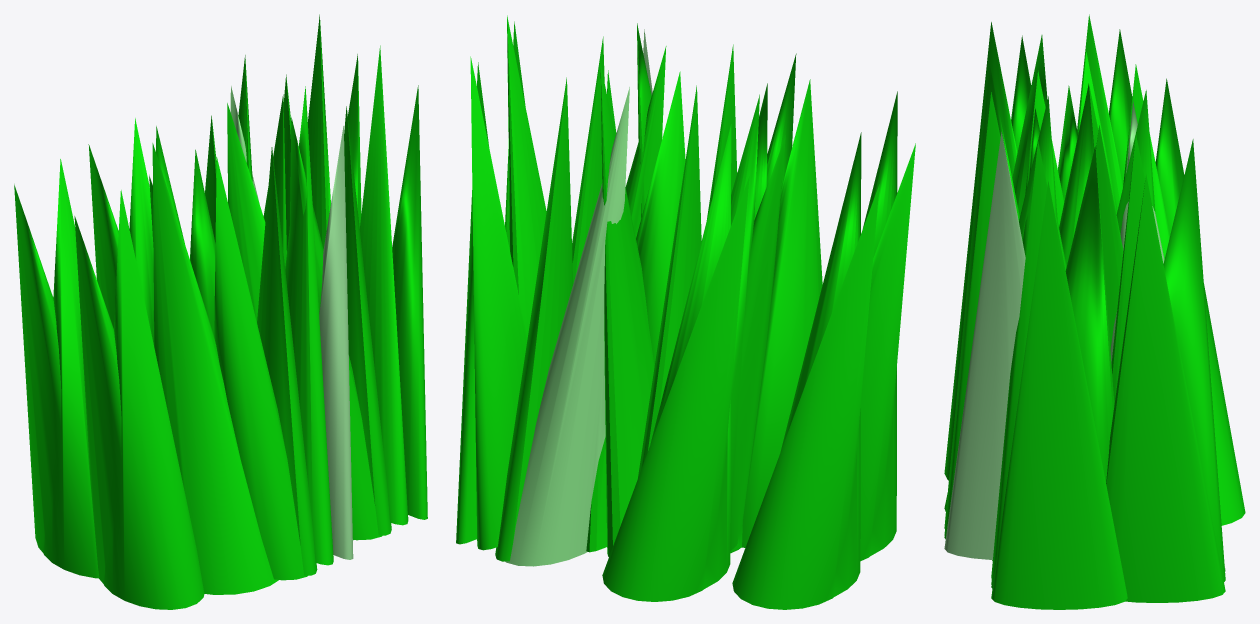
The picture shows the model from 3 angles, left to right: view 1: azimuth 30°, elevation 25°; view 2: azimuth 150°, elevation 25°; view 3: azimuth 270°, elevation 25°; orthographic projection. The views are drawn at different scales.
Parts seen in each view (by area): view 1: group2_pCone8; view 2: group2_pCone8; view 3: group2_pCone8.
Boxes of the visible parts, x1,y1,x2,y2 form: group2_pCone8: (14, 14, 427, 609); group2_pCone8: (456, 15, 915, 609); group2_pCone8: (944, 14, 1245, 609).
Bounding box in the file's own units: 9.34 × 10.82 × 6.31.
